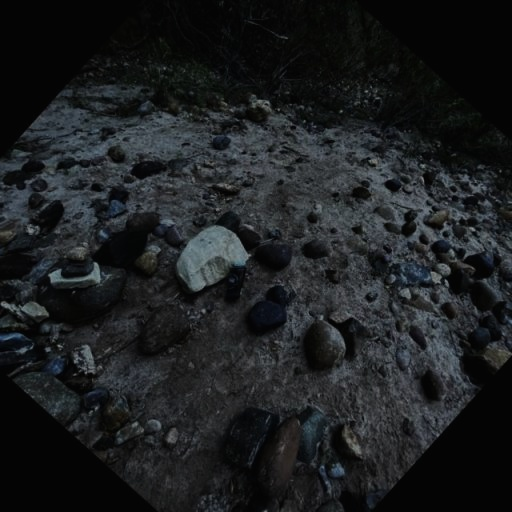bottle: (209, 254, 259, 304)
